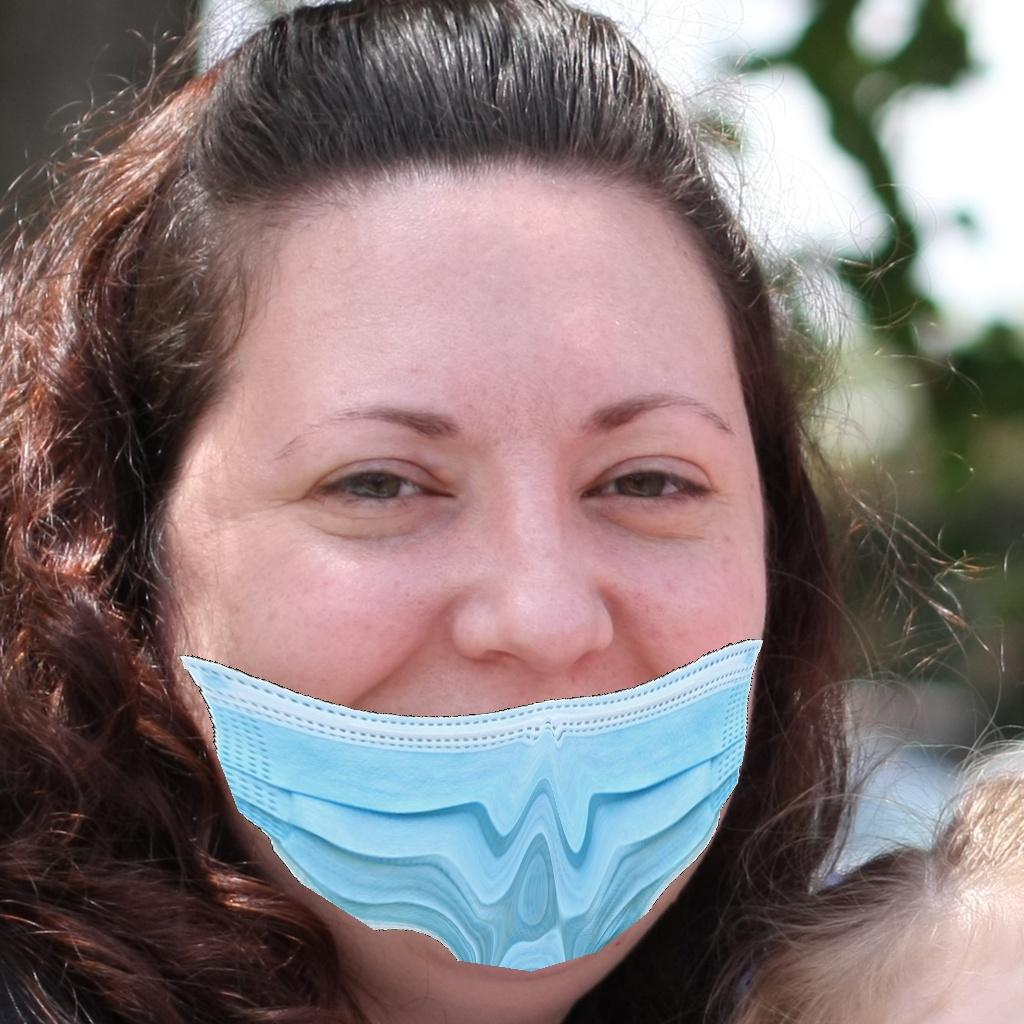Máscara Incorreta: (173, 212, 777, 948)
